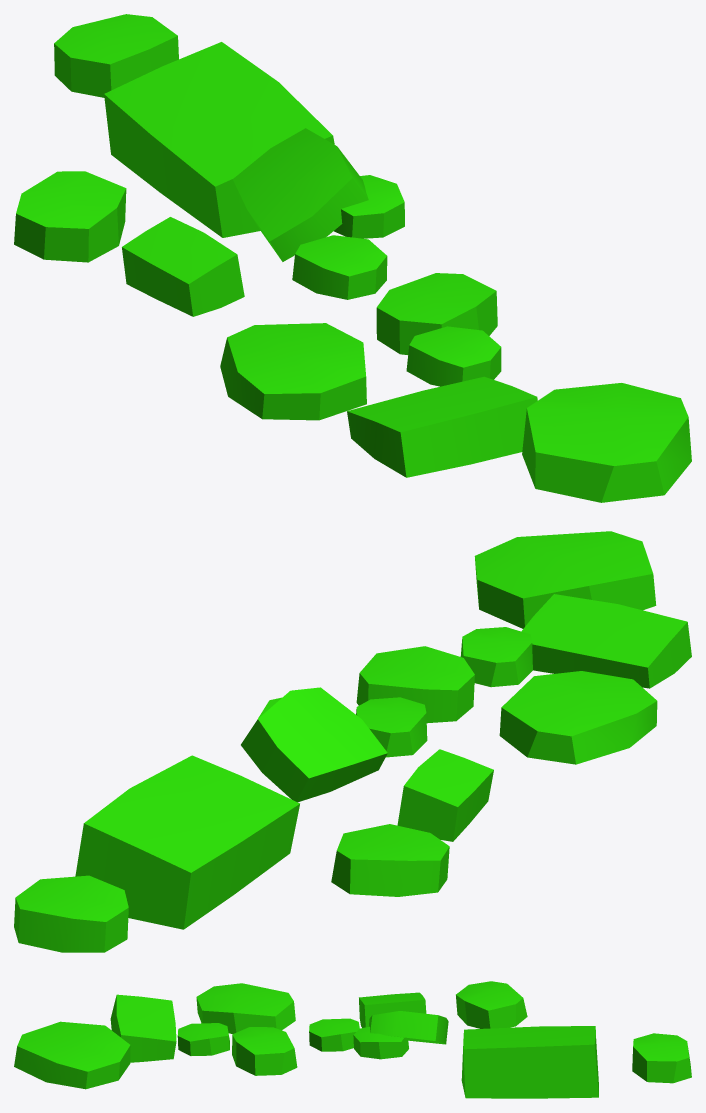
File: Debris_Stone_04B.fbx
3 renders of one model, top to bottom at view 1: azimuth 30°, elevation 25°; view 2: azimuth 150°, elevation 25°; view 3: azimuth 270°, elevation 25°, orthographic. The views are drawn at different scales.
Visible parts, largest first — view 1: Debris_Stone_04B; view 2: Debris_Stone_04B; view 3: Debris_Stone_04B.
Boxes of the visible parts, x1,y1,x2,y2 form: Debris_Stone_04B: [14, 14, 691, 502]; Debris_Stone_04B: [14, 531, 691, 952]; Debris_Stone_04B: [14, 981, 691, 1098].
Size of the model in its own units: 80.43 by 29.33 by 261.
